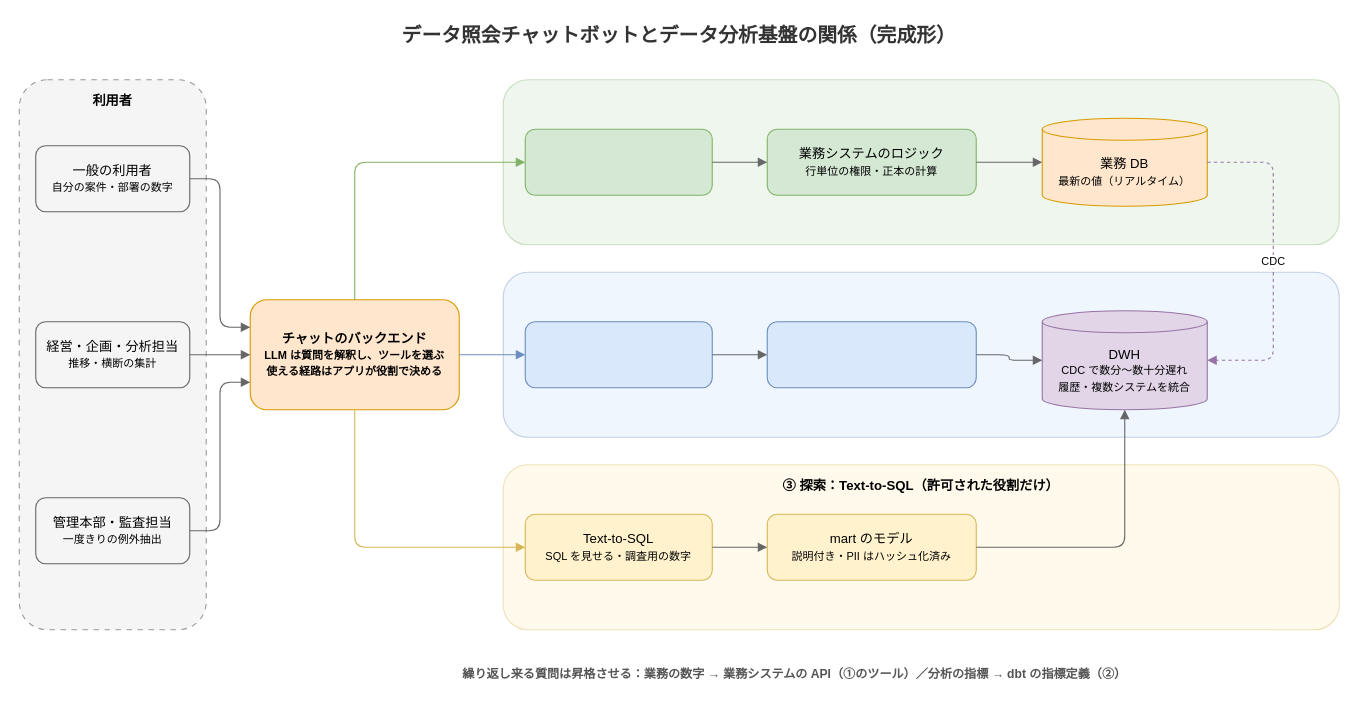
This 1359x714 diagram has some shape labels left out. Each missing label, with the box of its shape:
BI の MCP サーバー 定義済みの指標だけで問い合わせ: (524, 321, 712, 388)
① 業務照会：ツール呼び出し（全員）: (502, 79, 1339, 245)
② 定型分析：セマンティックレイヤー（BI の権限を持つ人）: (502, 271, 1339, 437)
セマンティックレイヤー dbt の指標定義 + BI の権限: (766, 321, 976, 388)
照会ツール ログイン中の利用者として実行: (524, 128, 712, 195)
